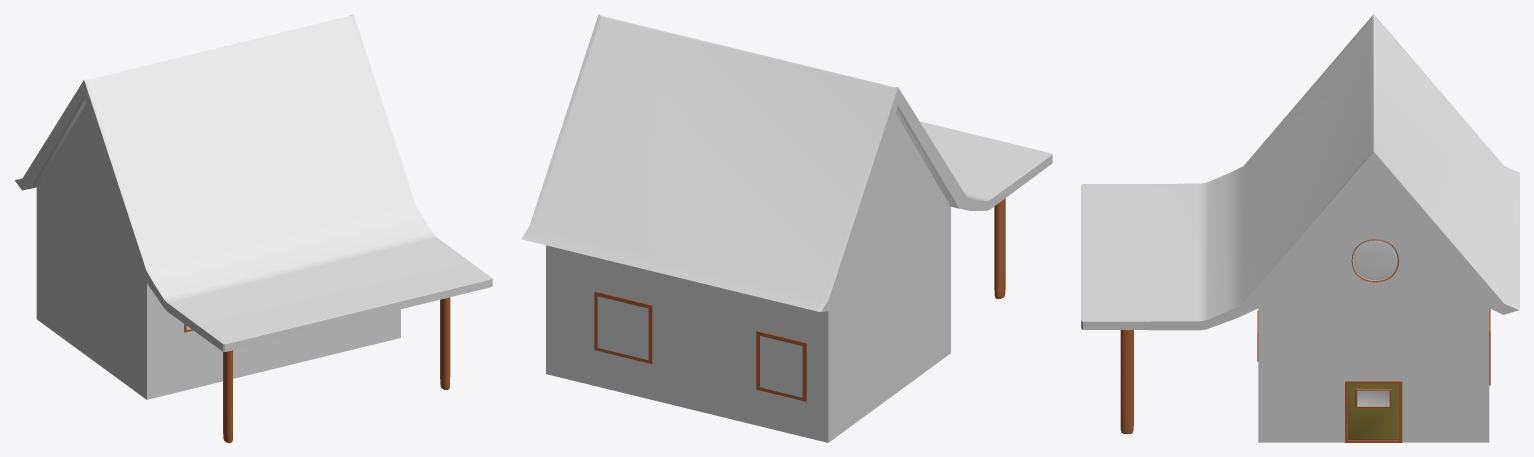
Rendered from Casa_nutria.fbx.
3 views of the same model, side by side, from view 1: azimuth 30°, elevation 25°; view 2: azimuth 150°, elevation 25°; view 3: azimuth 270°, elevation 25° (orthographic). The views are drawn at different scales.
Visible parts, largest first — view 1: Techo, Casa, Poste porche; view 2: Techo, Casa, Ventanas_grandes, Marco_ventanas_grandes, Poste porche; view 3: Techo, Casa, Puerta, Ventala superior, Poste porche, Marco_puerta.
Part boxes in pixels (left/top/right/bottom): Techo: left=15, top=14, right=492, bottom=351; Casa: left=36, top=104, right=400, bottom=399; Poste porche: left=223, top=297, right=450, bottom=442; Techo: left=521, top=14, right=1052, bottom=311; Casa: left=546, top=113, right=950, bottom=442; Ventanas_grandes: left=597, top=296, right=802, bottom=397; Marco_ventanas_grandes: left=594, top=291, right=806, bottom=401; Poste porche: left=994, top=198, right=1005, bottom=298; Techo: left=1081, top=14, right=1519, bottom=330; Casa: left=1258, top=169, right=1489, bottom=442; Puerta: left=1348, top=384, right=1398, bottom=439; Ventala superior: left=1351, top=239, right=1398, bottom=282; Poste porche: left=1120, top=330, right=1133, bottom=434; Marco_puerta: left=1345, top=381, right=1402, bottom=442.
Size of the model in its own units: 2504 by 2503 by 3375.
